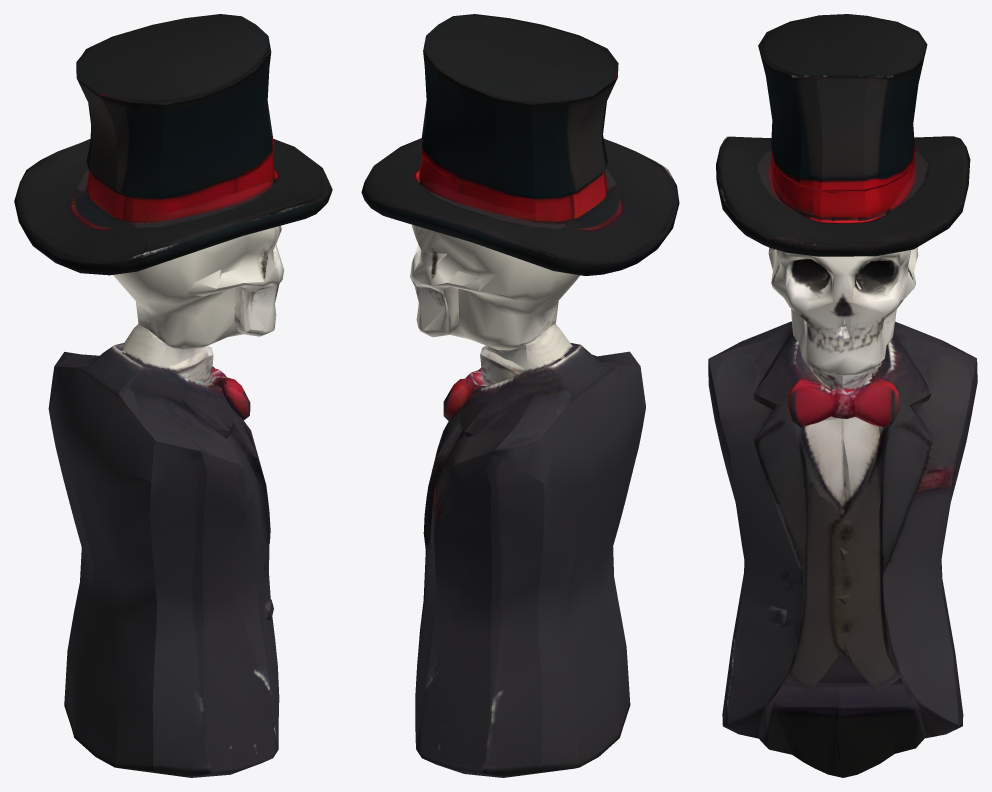
File: torso-ca.obj
The picture shows the model from 3 angles, left to right: view 1: azimuth 30°, elevation 25°; view 2: azimuth 150°, elevation 25°; view 3: azimuth 270°, elevation 25°; orthographic projection.
Parts seen in each view (by area): view 1: model.065; view 2: model.065; view 3: model.065.
Boxes of the visible parts, left/top/right/bottom form: model.065: left=14, top=14, right=332, bottom=777; model.065: left=361, top=14, right=679, bottom=777; model.065: left=708, top=14, right=977, bottom=777.
Bounding box in the file's own units: 0.1343 × 0.348 × 0.1176.
Materials: 1 (1 with a texture image).
